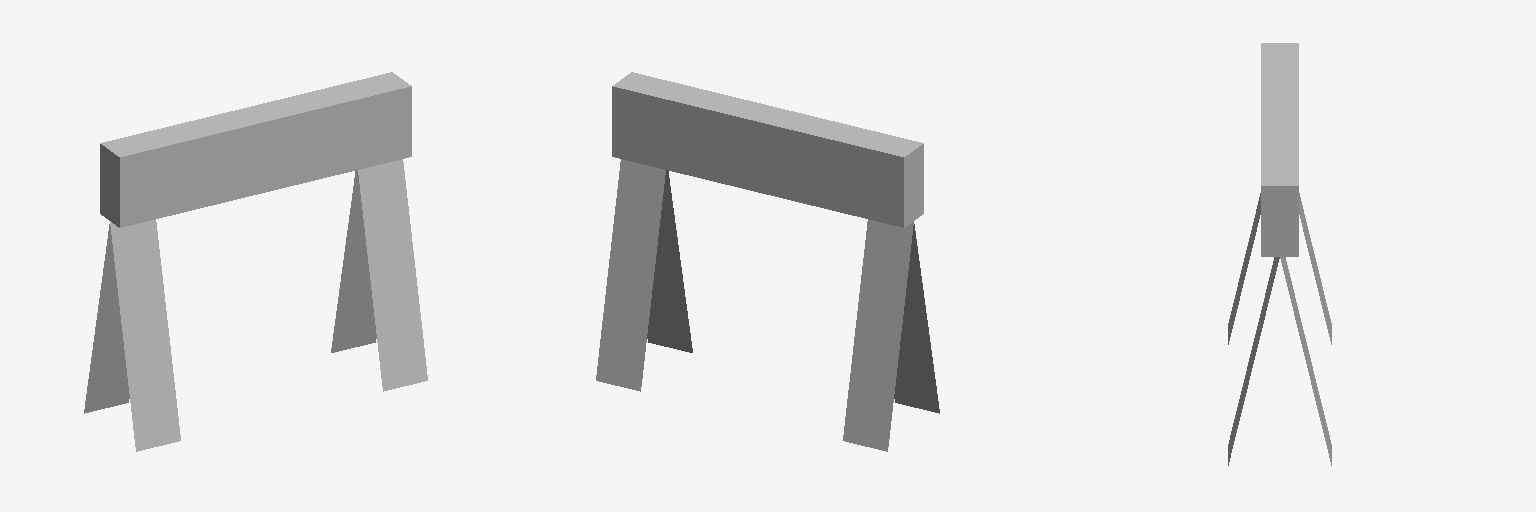
Rendered from detail-barrier-type-a.obj.
The picture shows the model from 3 angles: view 1: azimuth 30°, elevation 25°; view 2: azimuth 150°, elevation 25°; view 3: azimuth 270°, elevation 25°; orthographic projection.
Parts seen in each view (by area): view 1: detail-barrier-type-a; view 2: detail-barrier-type-a; view 3: detail-barrier-type-a.
Part boxes in pixels (x1,y1,x2,y2): detail-barrier-type-a: (84, 72, 427, 451); detail-barrier-type-a: (596, 72, 939, 451); detail-barrier-type-a: (1228, 43, 1331, 465).
Bounding box in the file's own units: 0.433 × 0.4 × 0.134.